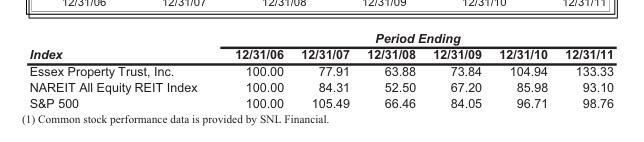table: (28, 28, 613, 110)
table column: (28, 28, 215, 110), (215, 28, 291, 110), (291, 28, 357, 110), (357, 28, 423, 110), (423, 28, 489, 110), (489, 28, 555, 110), (555, 28, 613, 110)
table column header: (28, 28, 613, 62)
table row: (28, 28, 613, 45), (28, 45, 613, 62), (28, 62, 613, 78), (28, 78, 613, 94), (28, 94, 613, 110)
table spanning cell: (215, 28, 613, 45), (28, 28, 215, 62)
